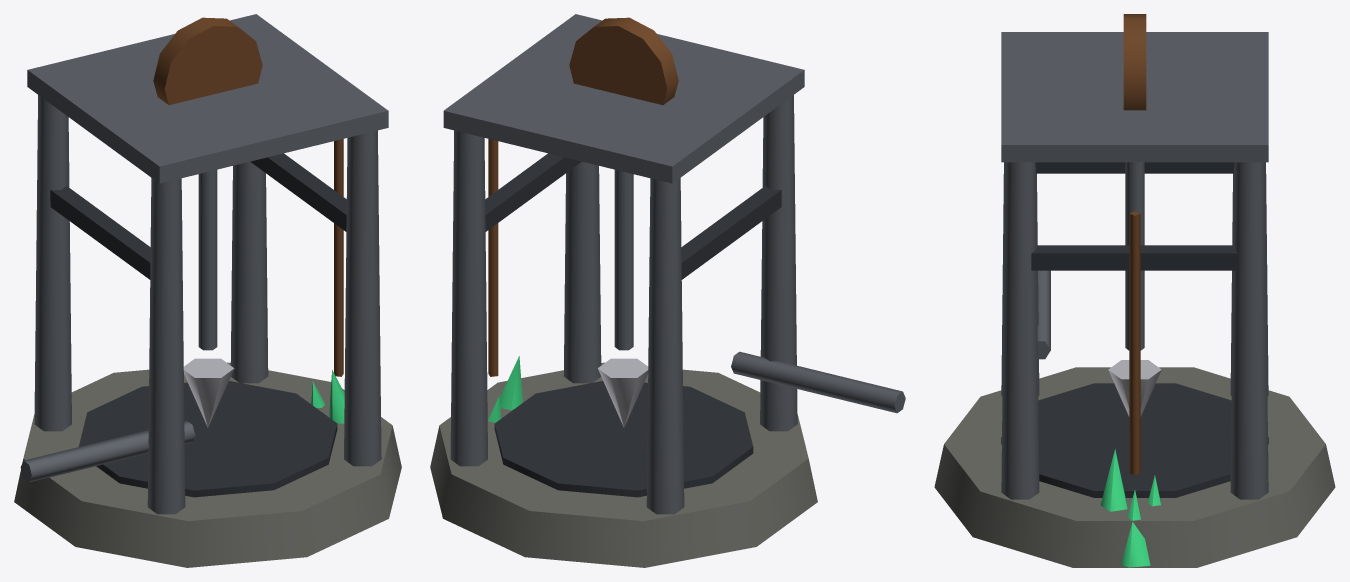
File: level1.glb
3 renders of one model, left to right at view 1: azimuth 30°, elevation 25°; view 2: azimuth 150°, elevation 25°; view 3: azimuth 270°, elevation 25°, orthographic.
Size of the model in its own units: 2.45 by 2.71 by 2.1.
